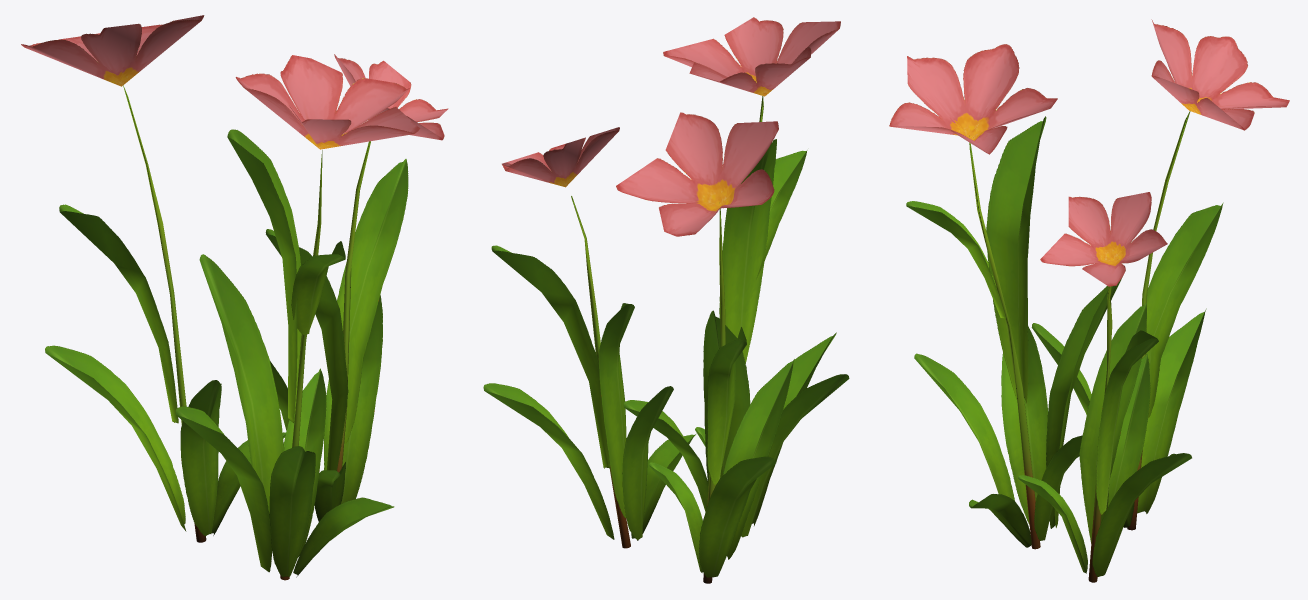
Rendered from Flower_3_Group.gltf.
3 renders of one model, left to right at view 1: azimuth 30°, elevation 25°; view 2: azimuth 150°, elevation 25°; view 3: azimuth 270°, elevation 25°, orthographic. The views are drawn at different scales.
Parts seen in each view (by area): view 1: Flower_3_Group; view 2: Flower_3_Group; view 3: Flower_3_Group.
Boxes of the visible parts, x1,y1,x2,y2 form: Flower_3_Group: (21, 15, 448, 580); Flower_3_Group: (483, 17, 849, 583); Flower_3_Group: (889, 19, 1289, 582).
Bounding box in the file's own units: 1.49 × 2.05 × 1.59.
Materials: 2 (2 with a texture image).
